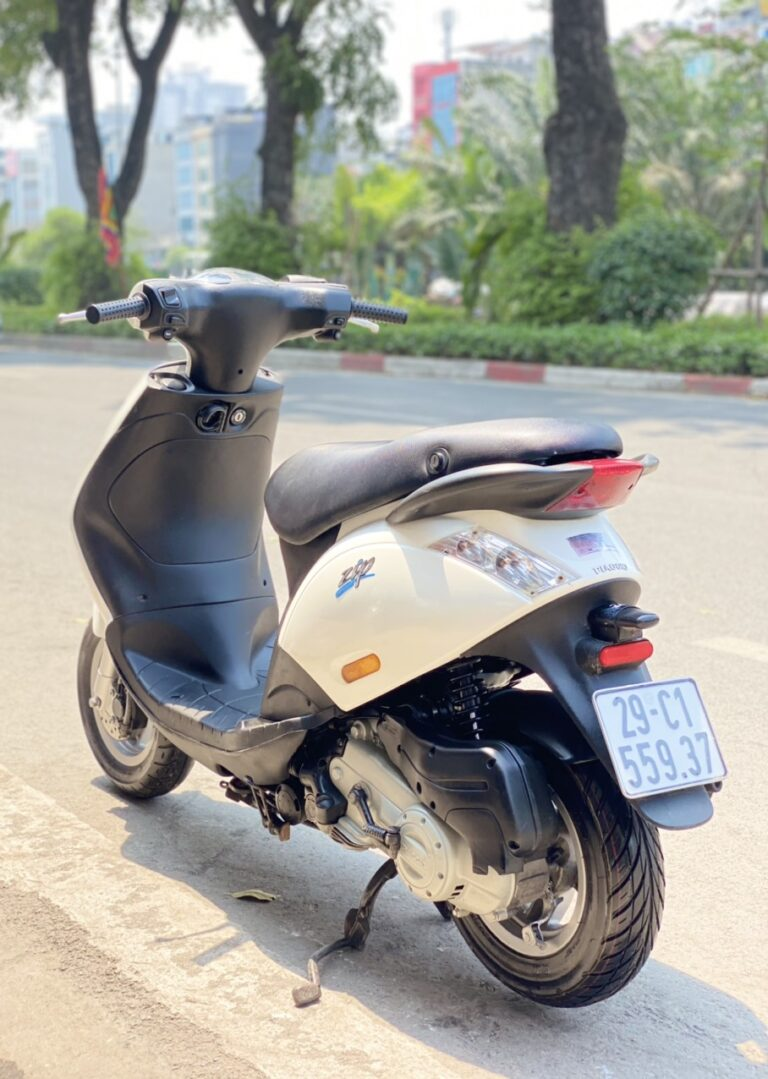bien_so: (584, 672, 732, 810)
